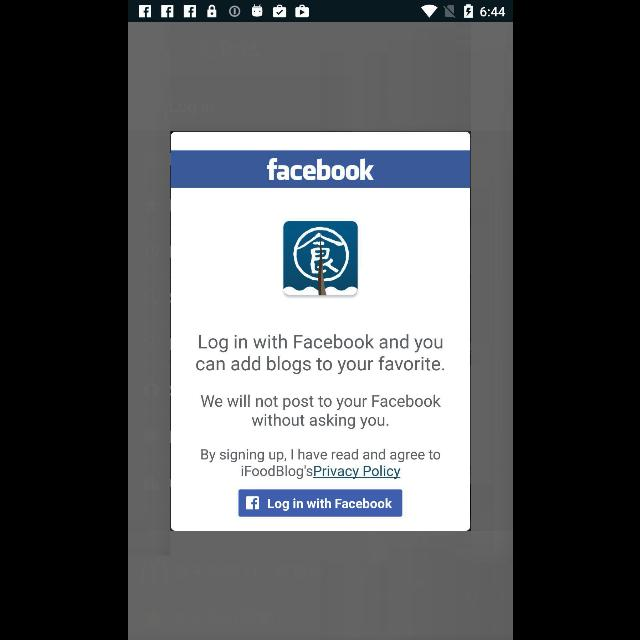image: (282, 221, 358, 295)
panel: (170, 132, 470, 530)
text: (195, 334, 443, 374), (200, 394, 440, 430), (200, 448, 440, 479)
textbutton: (170, 150, 470, 188), (238, 489, 402, 516)
uppertaskbar: (128, 1, 512, 23)
